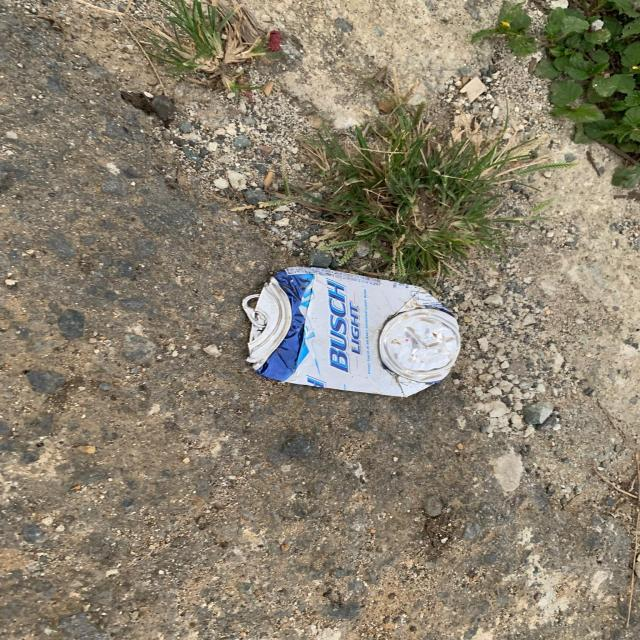litter: (252, 276, 459, 398)
